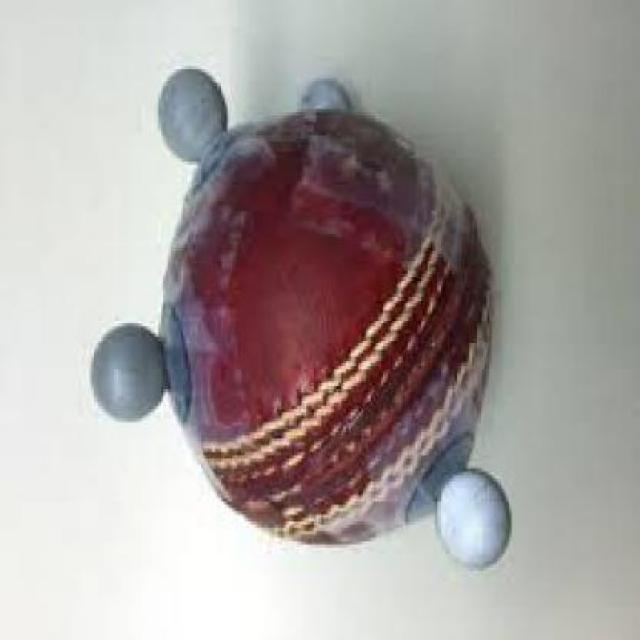ball: (144, 87, 506, 546)
